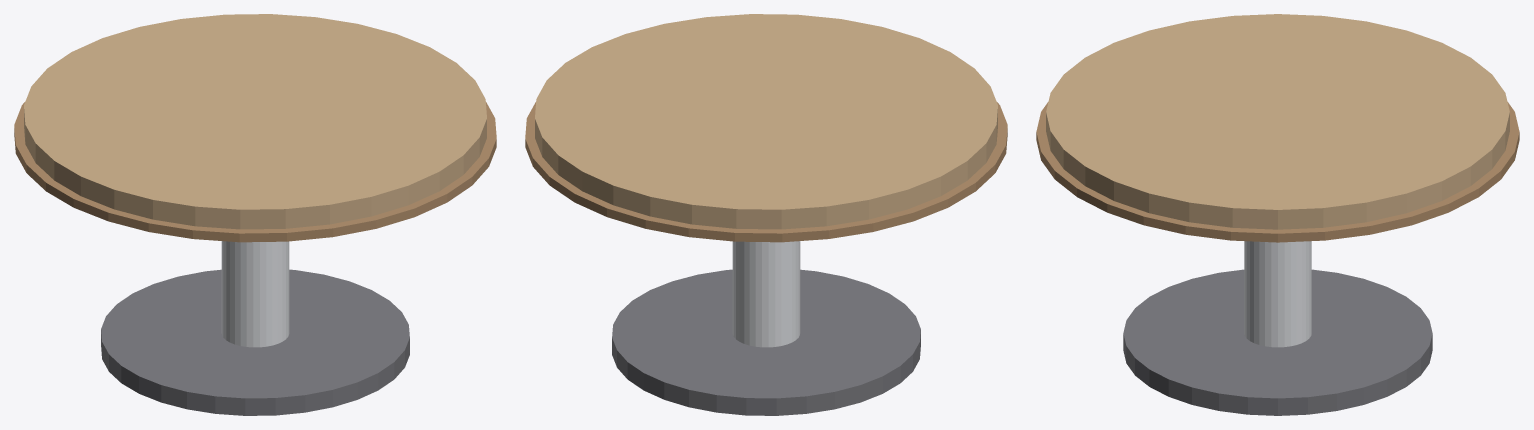
Rendered from cafe_bistro_table.glb.
The picture shows the model from 3 angles, left to right: view 1: azimuth 30°, elevation 25°; view 2: azimuth 150°, elevation 25°; view 3: azimuth 270°, elevation 25°; orthographic projection.
Visible parts, largest first — view 1: TableTop, TableFoot, TableEdge, TableColumn; view 2: TableTop, TableFoot, TableEdge, TableColumn; view 3: TableTop, TableFoot, TableEdge, TableColumn.
Boxes of the visible parts, left/top/right/bottom form: TableTop: left=24, top=14, right=486, bottom=229; TableFoot: left=101, top=269, right=409, bottom=415; TableEdge: left=14, top=102, right=496, bottom=242; TableColumn: left=221, top=241, right=289, bottom=347; TableTop: left=535, top=14, right=997, bottom=229; TableFoot: left=612, top=269, right=920, bottom=415; TableEdge: left=525, top=102, right=1007, bottom=242; TableColumn: left=732, top=241, right=800, bottom=347; TableTop: left=1046, top=14, right=1509, bottom=229; TableFoot: left=1123, top=269, right=1432, bottom=415; TableEdge: left=1036, top=102, right=1519, bottom=242; TableColumn: left=1244, top=241, right=1311, bottom=347.
Size of the model in its own units: 5 by 2.72 by 5.
